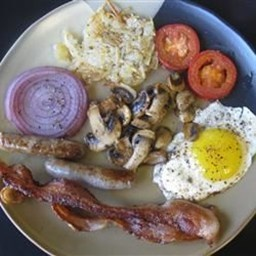background: (0, 0, 102, 100)
